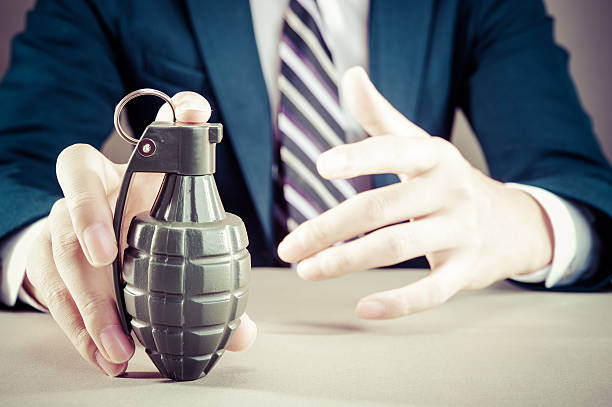e1: (112, 88, 254, 383)
